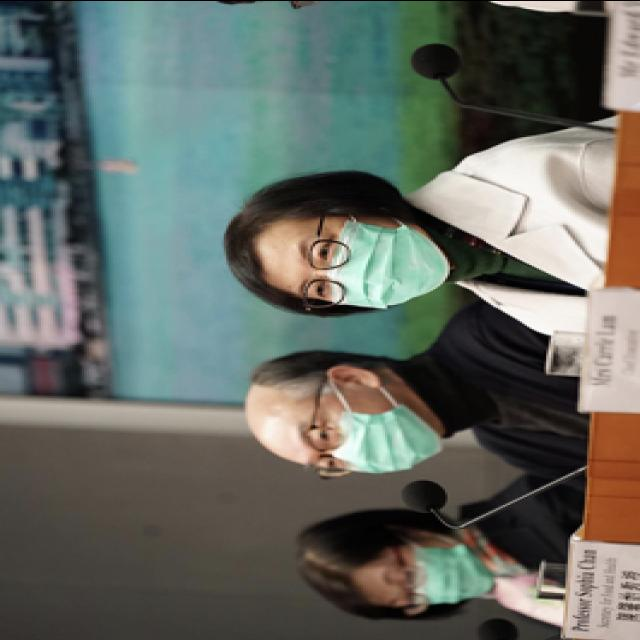mask: (279, 214, 443, 312), (286, 388, 438, 478), (373, 534, 493, 614)
